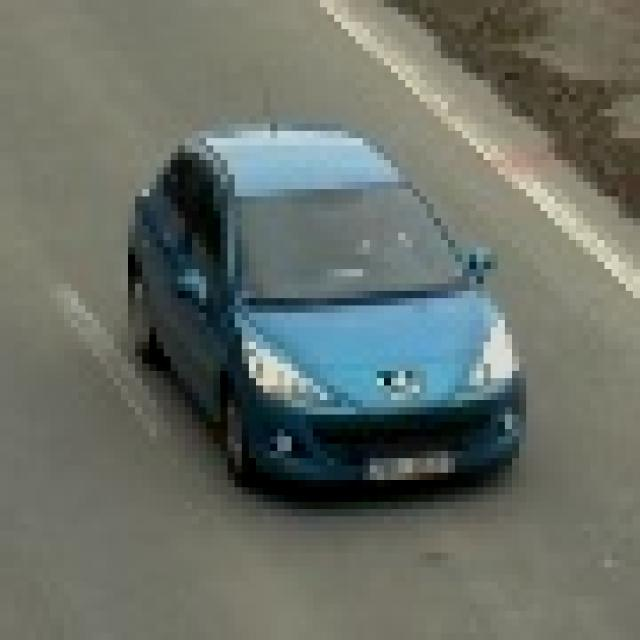blue: (124, 133, 526, 510)
